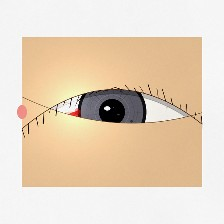hemorrhage_spot: (57, 96, 116, 142)
